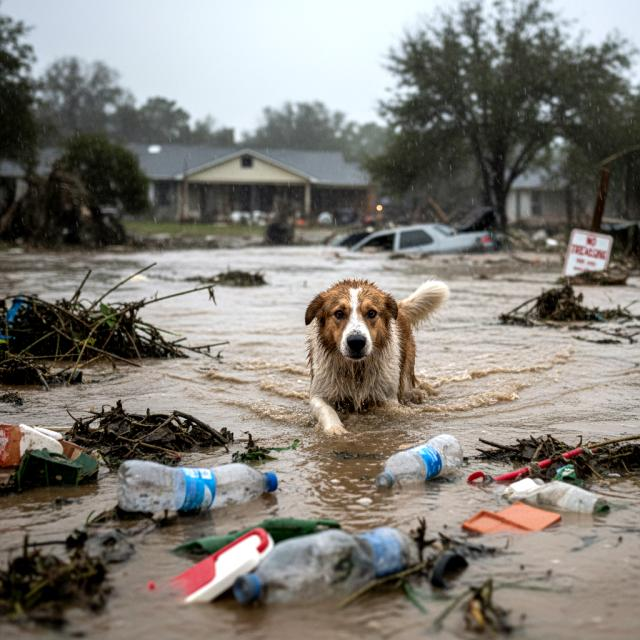dog: (289, 273, 461, 437)
